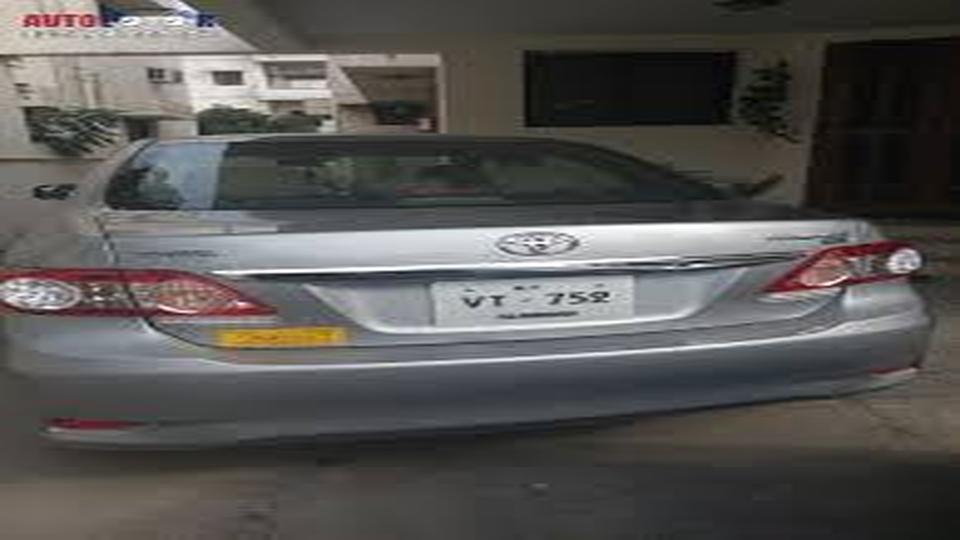NumberPlate: (418, 276, 653, 322)
